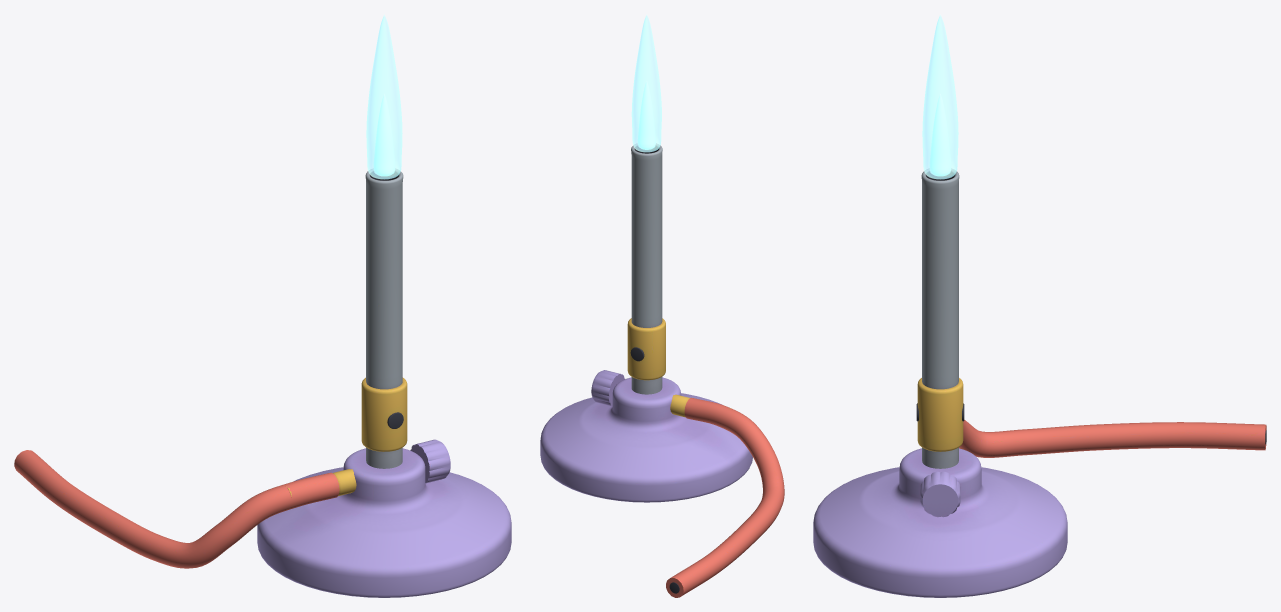
The model's file is bunsen-burner.glb.
3 renders of one model, left to right at view 1: azimuth 30°, elevation 25°; view 2: azimuth 150°, elevation 25°; view 3: azimuth 270°, elevation 25°, orthographic. The views are drawn at different scales.
Visible parts, largest first — view 1: bunsen-burner_body, bunsen-burner_flame_glow; view 2: bunsen-burner_body, bunsen-burner_flame_glow; view 3: bunsen-burner_body, bunsen-burner_flame_glow.
Part boxes in pixels (left/top/right/bottom): bunsen-burner_body: left=14, top=169, right=511, bottom=597; bunsen-burner_flame_glow: left=366, top=14, right=402, bottom=179; bunsen-burner_body: left=540, top=143, right=784, bottom=597; bunsen-burner_flame_glow: left=631, top=14, right=661, bottom=152; bunsen-burner_body: left=813, top=169, right=1266, bottom=597; bunsen-burner_flame_glow: left=922, top=14, right=958, bottom=179.
Bounding box in the file's own units: 0.1316 × 0.2074 × 0.1604.
Materials: 3 (1 with a texture image).
